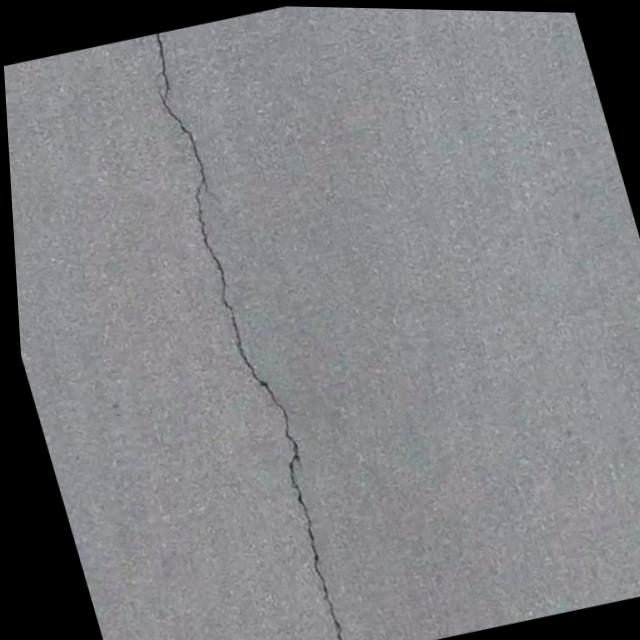Crack: (138, 26, 368, 640)
